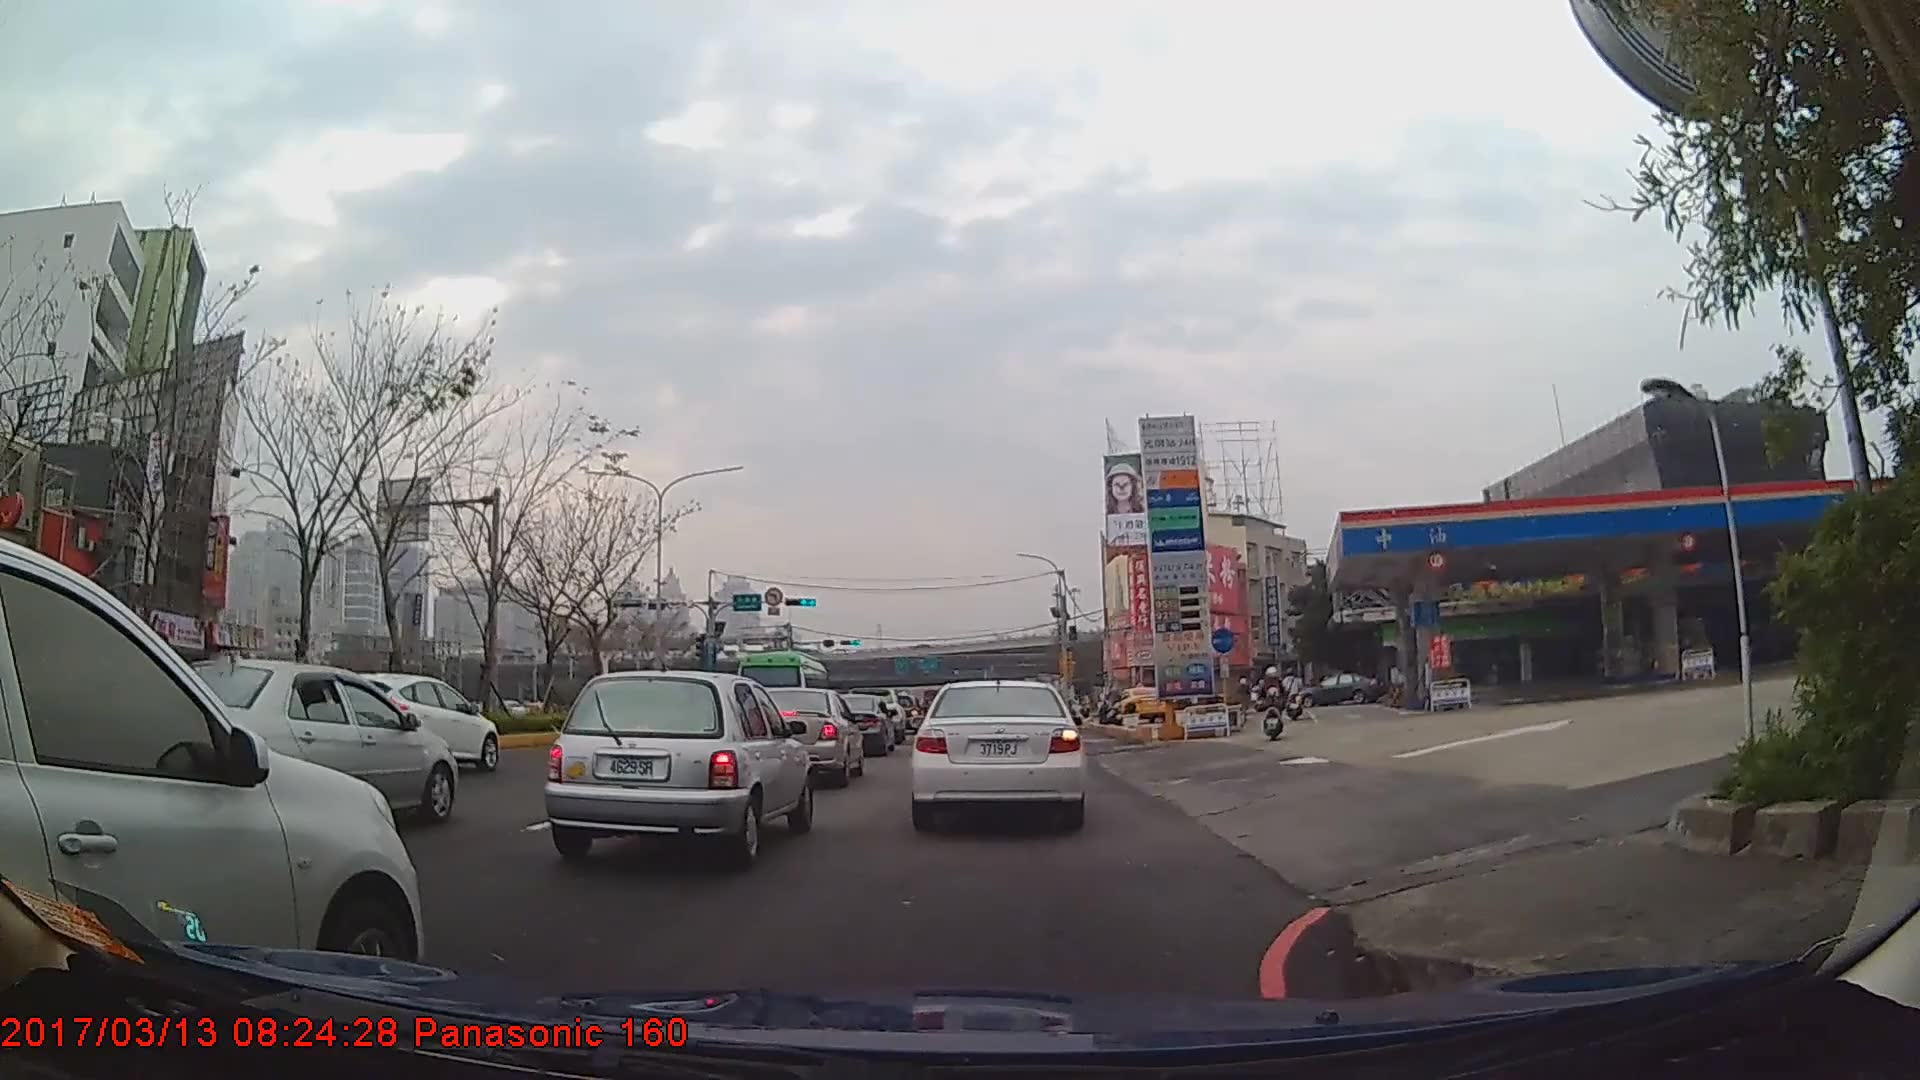rider: (1261, 668, 1289, 741), (1283, 670, 1306, 720)
vehicle: (0, 539, 426, 1020), (137, 658, 453, 826), (544, 670, 812, 866), (912, 675, 1084, 831), (314, 669, 498, 771), (739, 685, 865, 790), (732, 648, 829, 730), (818, 692, 896, 756), (1294, 671, 1383, 706), (1114, 686, 1169, 724)
